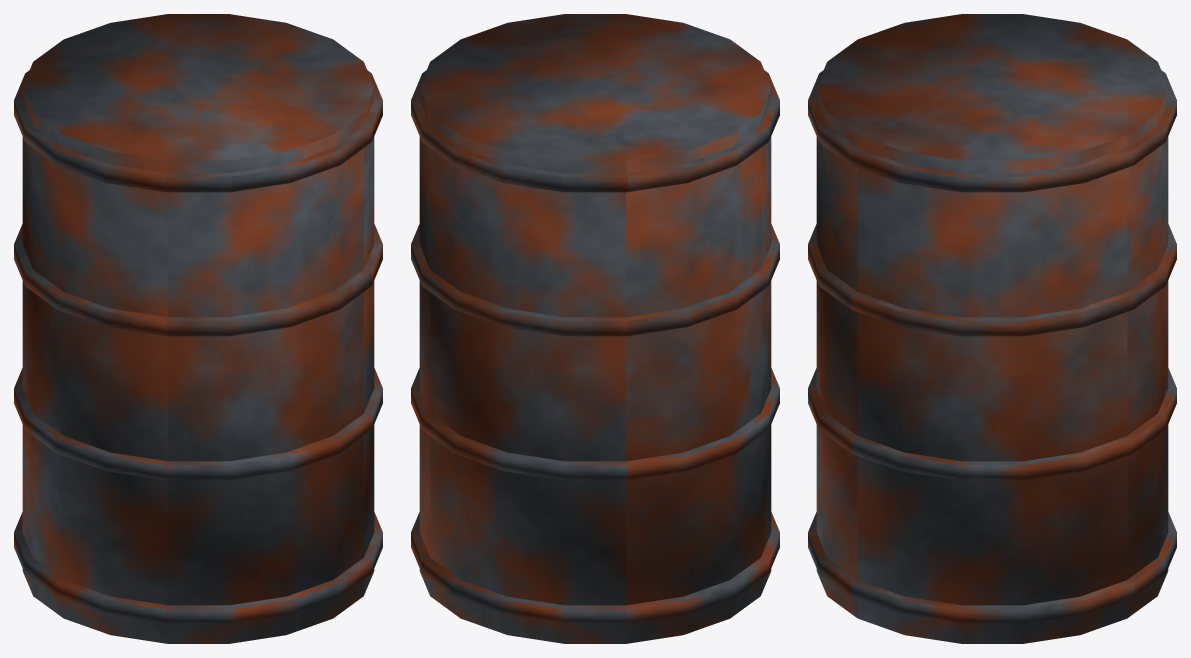
The model's file is prop_barrel.glb.
3 views of the same model, side by side, from view 1: azimuth 30°, elevation 25°; view 2: azimuth 150°, elevation 25°; view 3: azimuth 270°, elevation 25° (orthographic).
Parts seen in each view (by area): view 1: Drum, Rim_0.9, Rim_0.06, Rim_0.62, Rim_0.34; view 2: Drum, Rim_0.9, Rim_0.06, Rim_0.62, Rim_0.34; view 3: Drum, Rim_0.9, Rim_0.06, Rim_0.62, Rim_0.34.
Part boxes in pixels (x1=…): Drum: x1=22, y1=14, x2=374, y2=643; Rim_0.9: x1=14, y1=70, x2=382, y2=192; Rim_0.06: x1=14, y1=512, x2=382, y2=624; Rim_0.62: x1=14, y1=224, x2=382, y2=336; Rim_0.34: x1=14, y1=368, x2=382, y2=480; Drum: x1=419, y1=14, x2=771, y2=643; Rim_0.9: x1=411, y1=70, x2=779, y2=192; Rim_0.06: x1=411, y1=512, x2=779, y2=624; Rim_0.62: x1=411, y1=224, x2=779, y2=336; Rim_0.34: x1=411, y1=368, x2=779, y2=480; Drum: x1=816, y1=14, x2=1168, y2=643; Rim_0.9: x1=808, y1=70, x2=1176, y2=192; Rim_0.06: x1=808, y1=512, x2=1176, y2=624; Rim_0.62: x1=808, y1=224, x2=1176, y2=336; Rim_0.34: x1=808, y1=368, x2=1176, y2=480.
Size of the model in its own units: 0.6401 by 0.94 by 0.65.
1 material, 1 textured.
